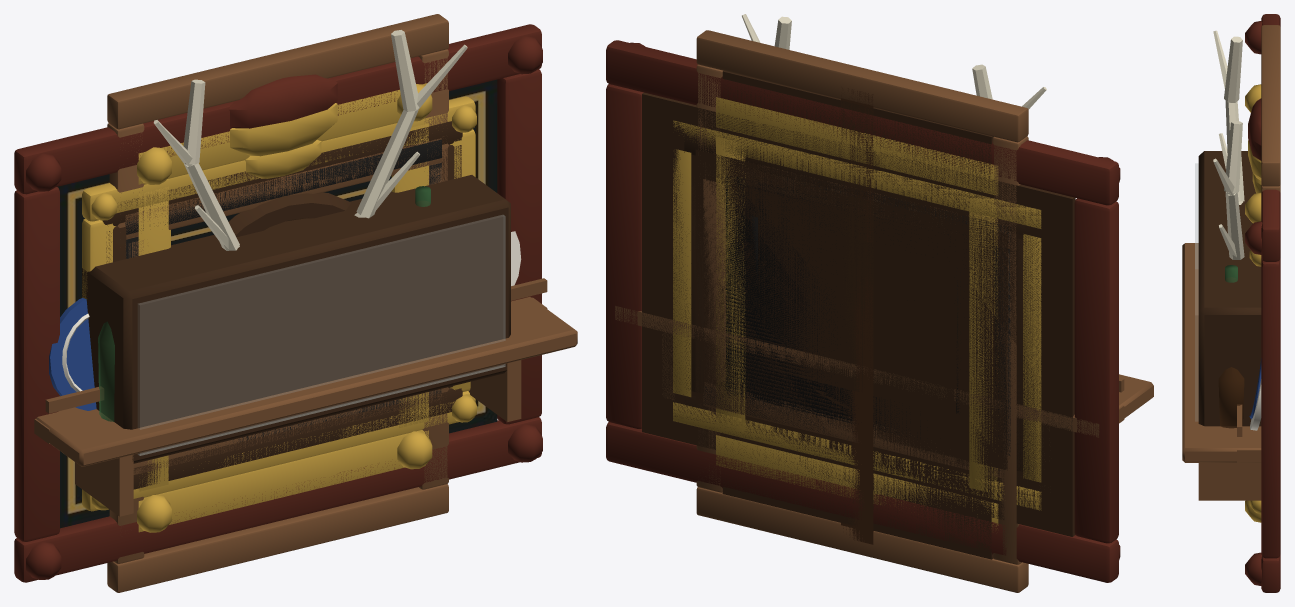
File: pictures.glb
3 views of the same model, side by side, from view 1: azimuth 30°, elevation 25°; view 2: azimuth 150°, elevation 25°; view 3: azimuth 270°, elevation 25° (orthographic). The views are drawn at different scales.
Visible parts, largest first — view 1: fish_case, mirror_brewery, chalkboard_menu, shelf_bottles, picture_portrait, picture_landscape, picture_hunt, antlers, picture_bull, plate_rack_plates, picture_ship, wall_clock (+1 smaller); view 2: mirror_brewery, picture_landscape, chalkboard_menu, picture_hunt, picture_portrait, picture_team_photo, picture_bull, pub_sign_small, horse_brasses, plate_rack_plates, shelf_bottles, picture_ship (+1 smaller); view 3: fish_case, mirror_brewery, shelf_bottles, antlers, chalkboard_menu, picture_portrait, plate_rack_plates, picture_landscape.
Part boxes in pixels (x1,y1,x2,y2): fish_case: (82, 175, 510, 463); mirror_brewery: (14, 24, 542, 582); chalkboard_menu: (107, 14, 448, 592); shelf_bottles: (34, 186, 577, 516); picture_portrait: (137, 83, 432, 532); picture_landscape: (82, 96, 476, 511); picture_hunt: (102, 121, 462, 489); antlers: (153, 30, 467, 250); picture_bull: (125, 138, 441, 474); plate_rack_plates: (34, 231, 547, 443); picture_ship: (125, 139, 441, 453); wall_clock: (213, 192, 350, 237); mirror_brewery: (606, 40, 1120, 582); picture_landscape: (673, 120, 1041, 510); chalkboard_menu: (696, 30, 1028, 592); picture_hunt: (684, 132, 1029, 476); picture_portrait: (716, 97, 998, 529); picture_team_photo: (746, 216, 960, 414); picture_bull: (703, 151, 1010, 477); pub_sign_small: (725, 175, 985, 438); horse_brasses: (841, 88, 873, 544); plate_rack_plates: (615, 306, 1124, 437); shelf_bottles: (620, 311, 1153, 461); picture_ship: (703, 169, 1010, 470); fish_case: (1195, 151, 1261, 426); mirror_brewery: (1245, 14, 1280, 592); shelf_bottles: (1182, 243, 1261, 500); antlers: (1213, 30, 1244, 259); chalkboard_menu: (1261, 25, 1280, 192); picture_portrait: (1245, 84, 1261, 522); plate_rack_plates: (1237, 358, 1261, 462); picture_landscape: (1249, 173, 1261, 513).
Bounding box in the file's own units: 0.94 × 0.8769 × 0.18.
27 materials, 8 textured.
